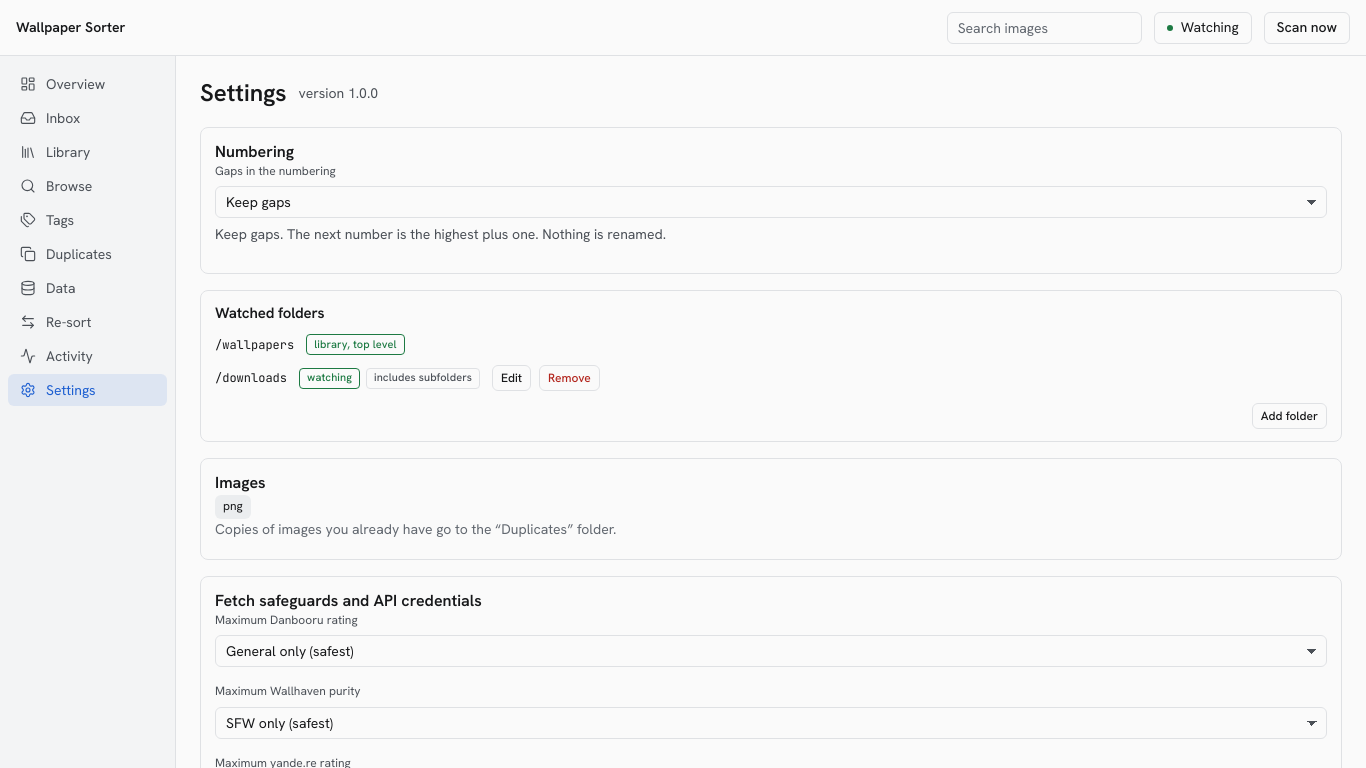
it: updates numbering settings and adds a watched intake folder
Expected: the heading "Settings" is shown, [200, 76, 287, 111]
Select "Renumber everything" in the dropdown labelled "Gaps in the numbering" at (771, 202), box [215, 186, 1327, 218]
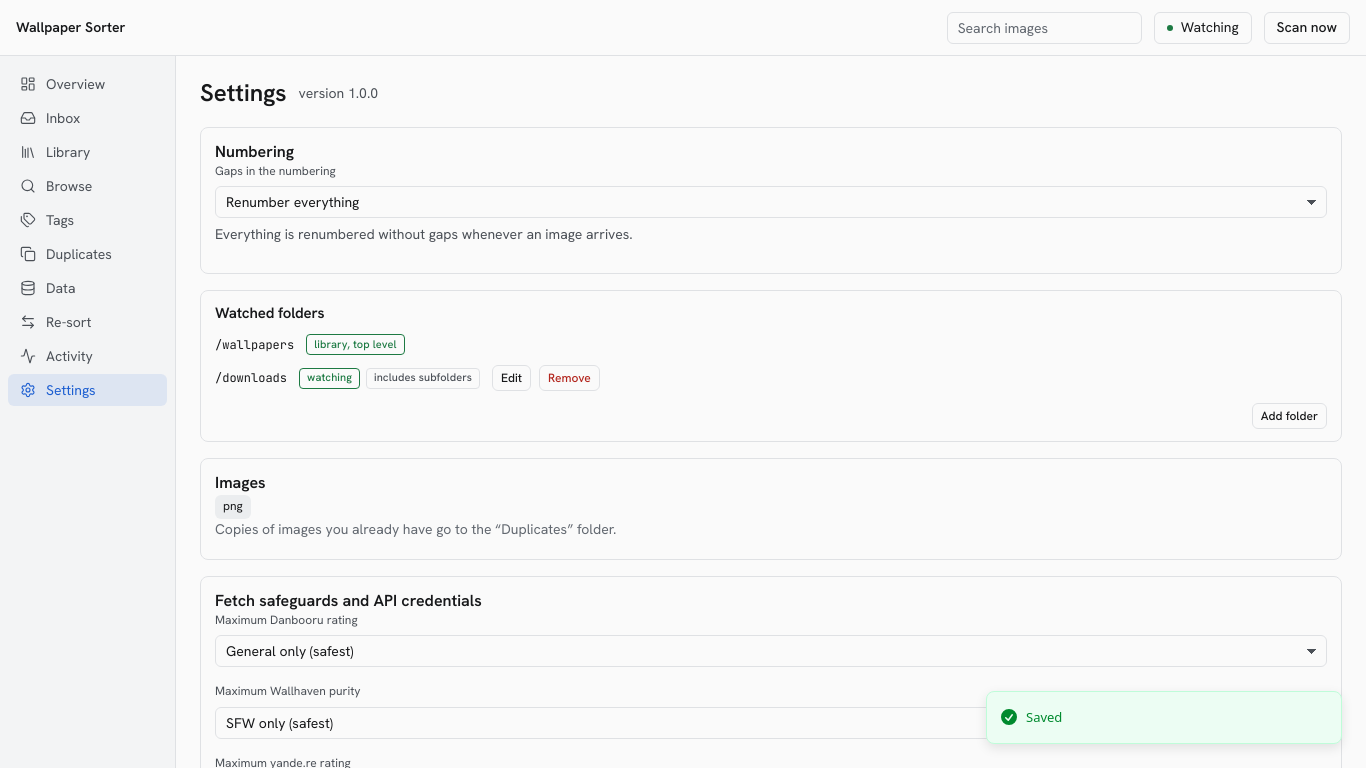
Click the button "Add folder" at (1289, 416), box [1252, 403, 1327, 429]
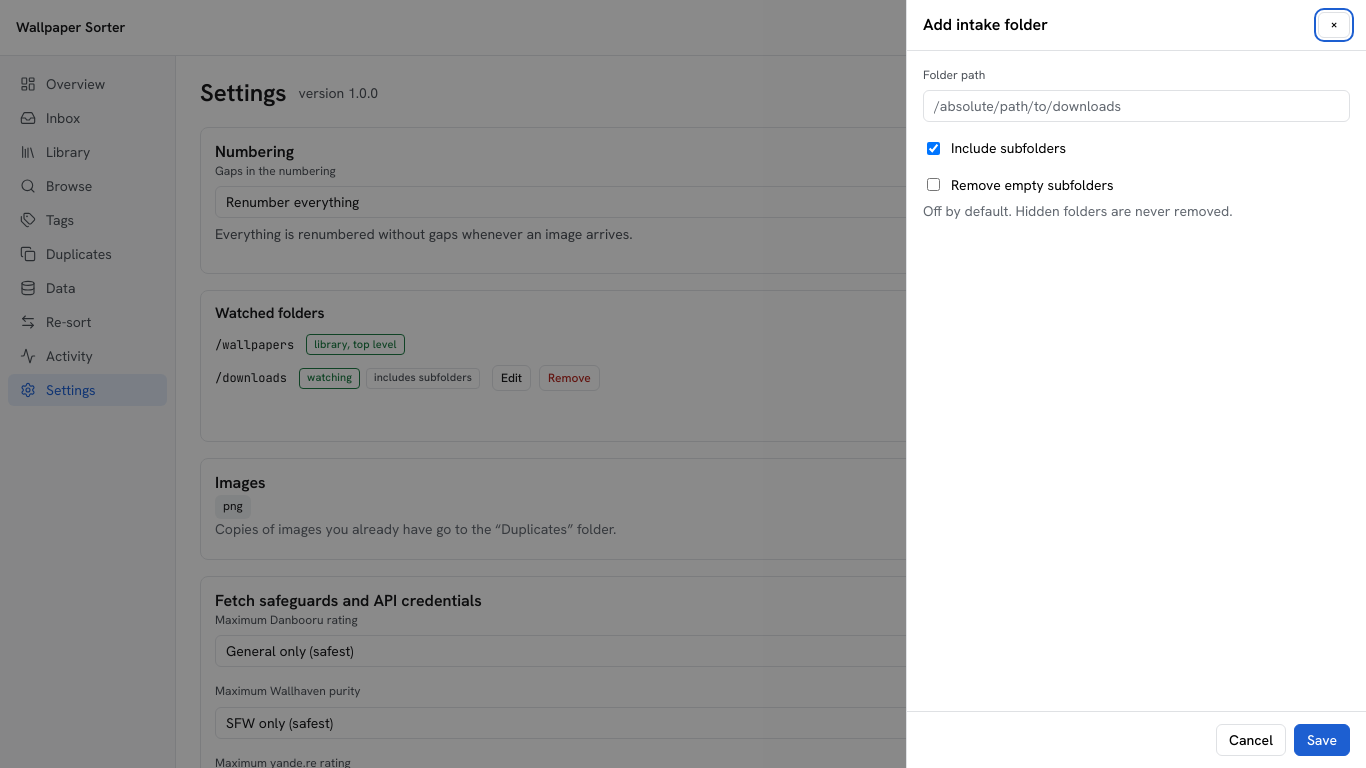
Type "/new-downloads" into the field named "Intake folder path" at (1136, 106), box [923, 90, 1350, 122]
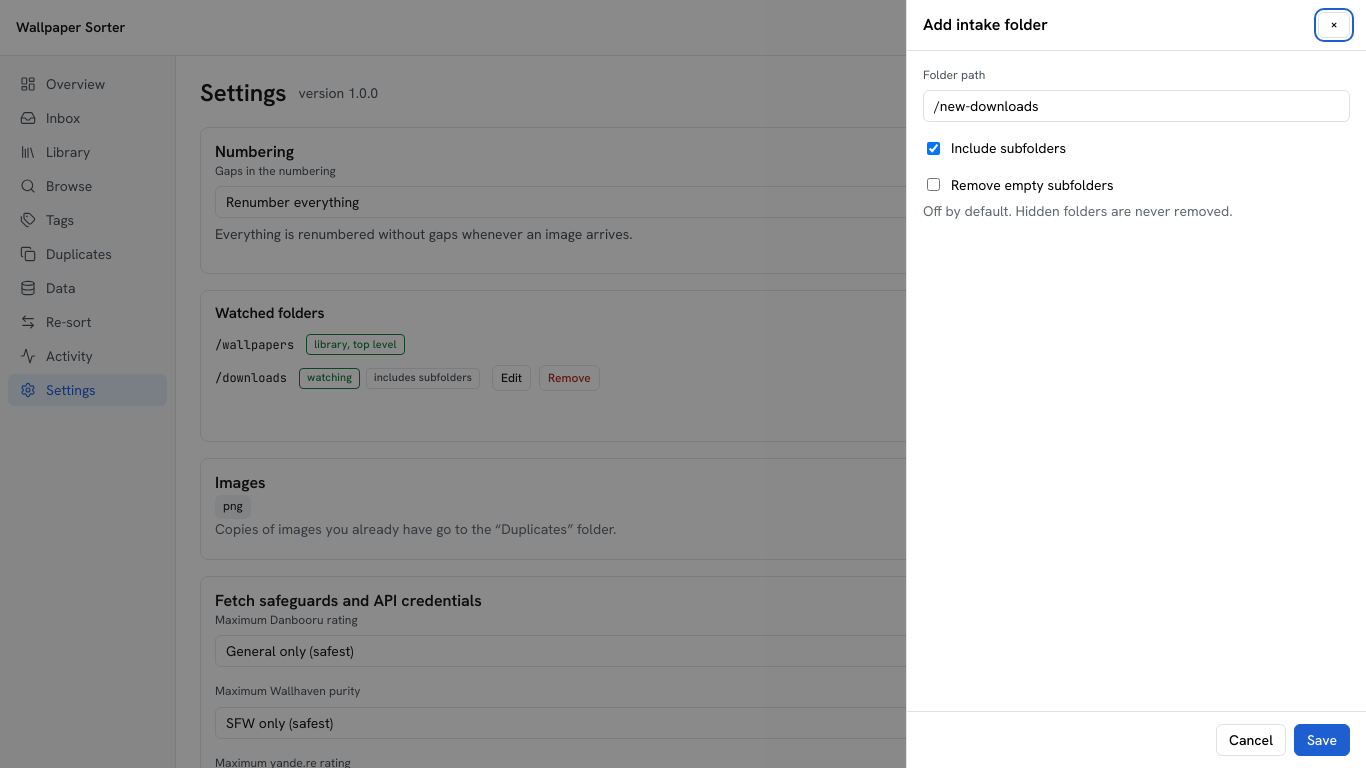
Click the button "Save" at (1322, 740), box [1294, 724, 1350, 756]
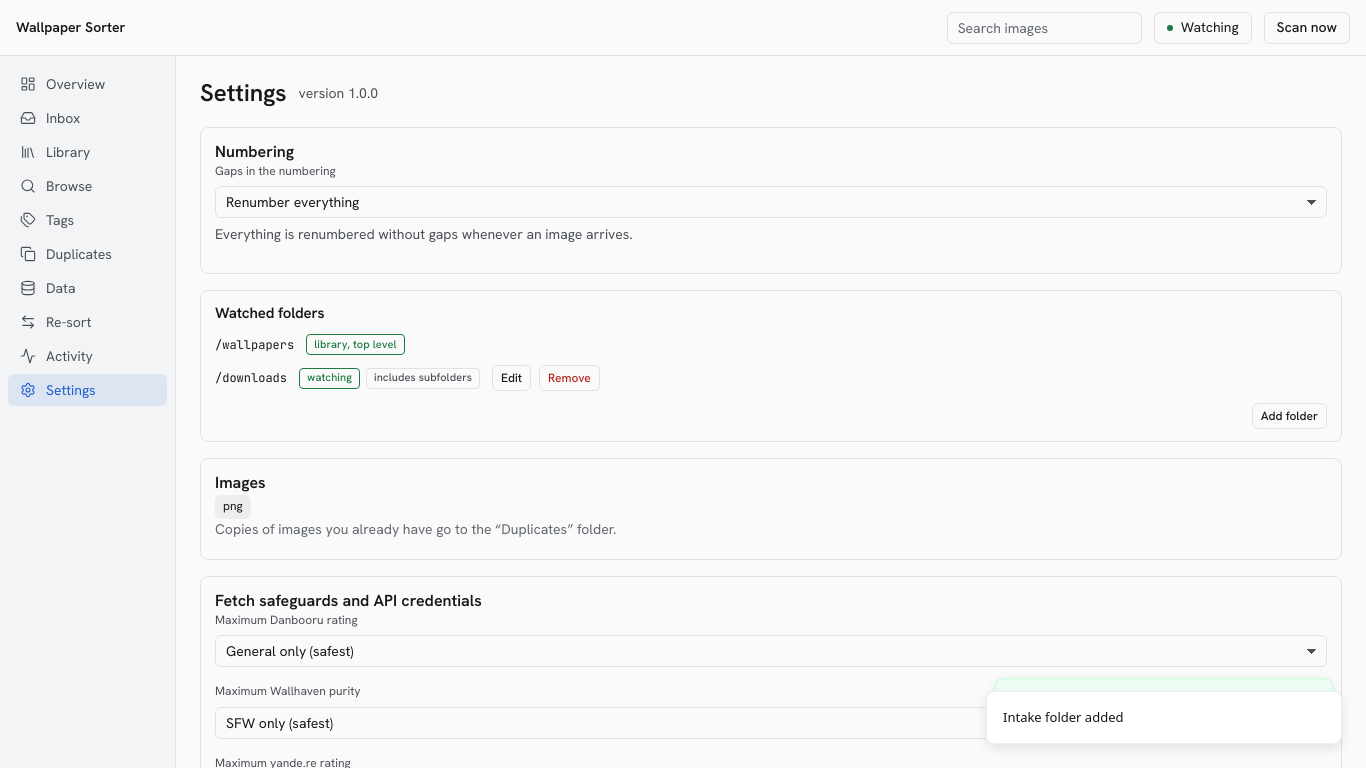
Expected: the text "Intake folder added" is shown, [1003, 708, 1124, 727]
